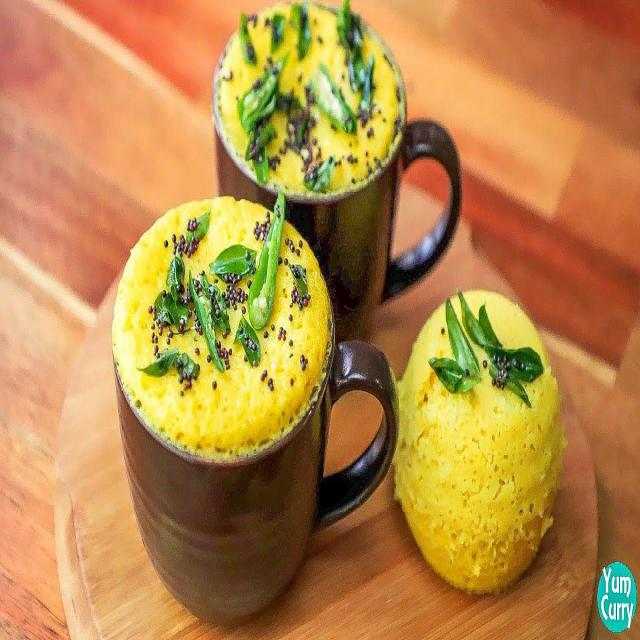dhokla: (97, 200, 335, 458), (396, 287, 568, 585), (215, 0, 405, 202)
